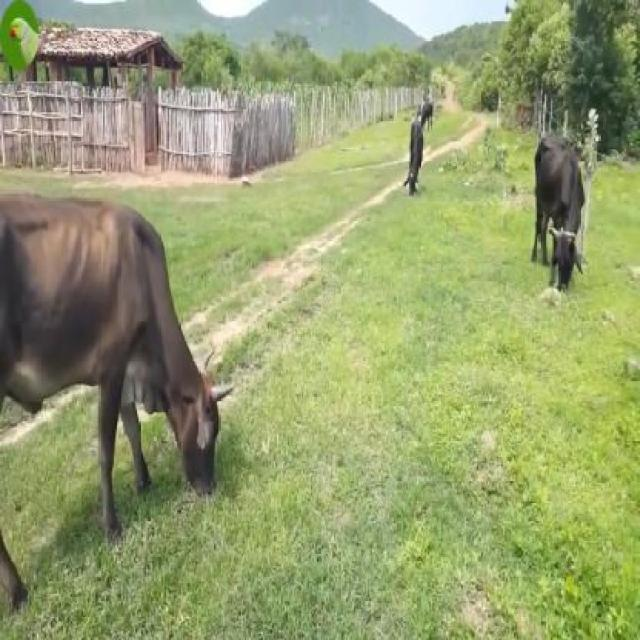Cow: (2, 188, 230, 617), (532, 132, 585, 296)
